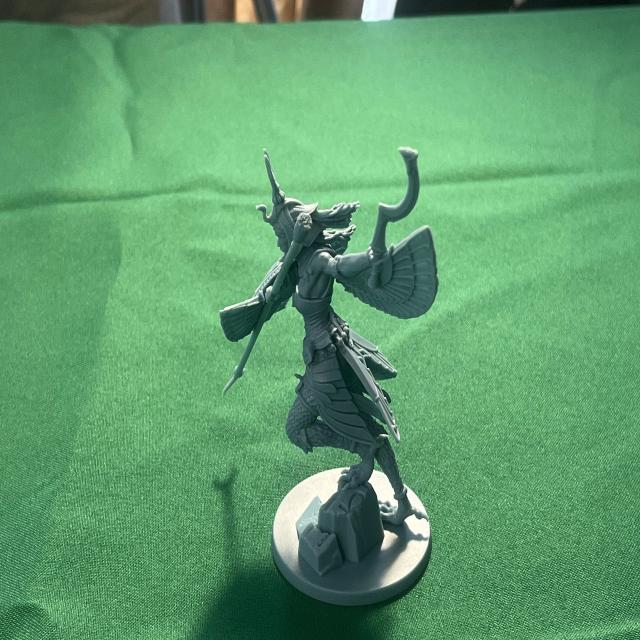isis: (213, 137, 460, 624)
